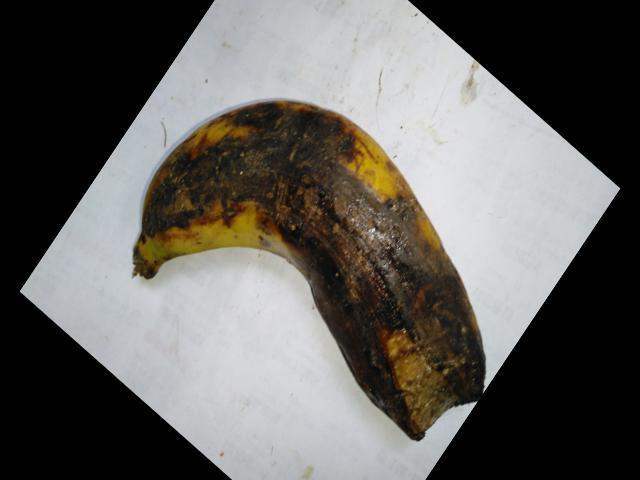rotten: (151, 121, 510, 441)
